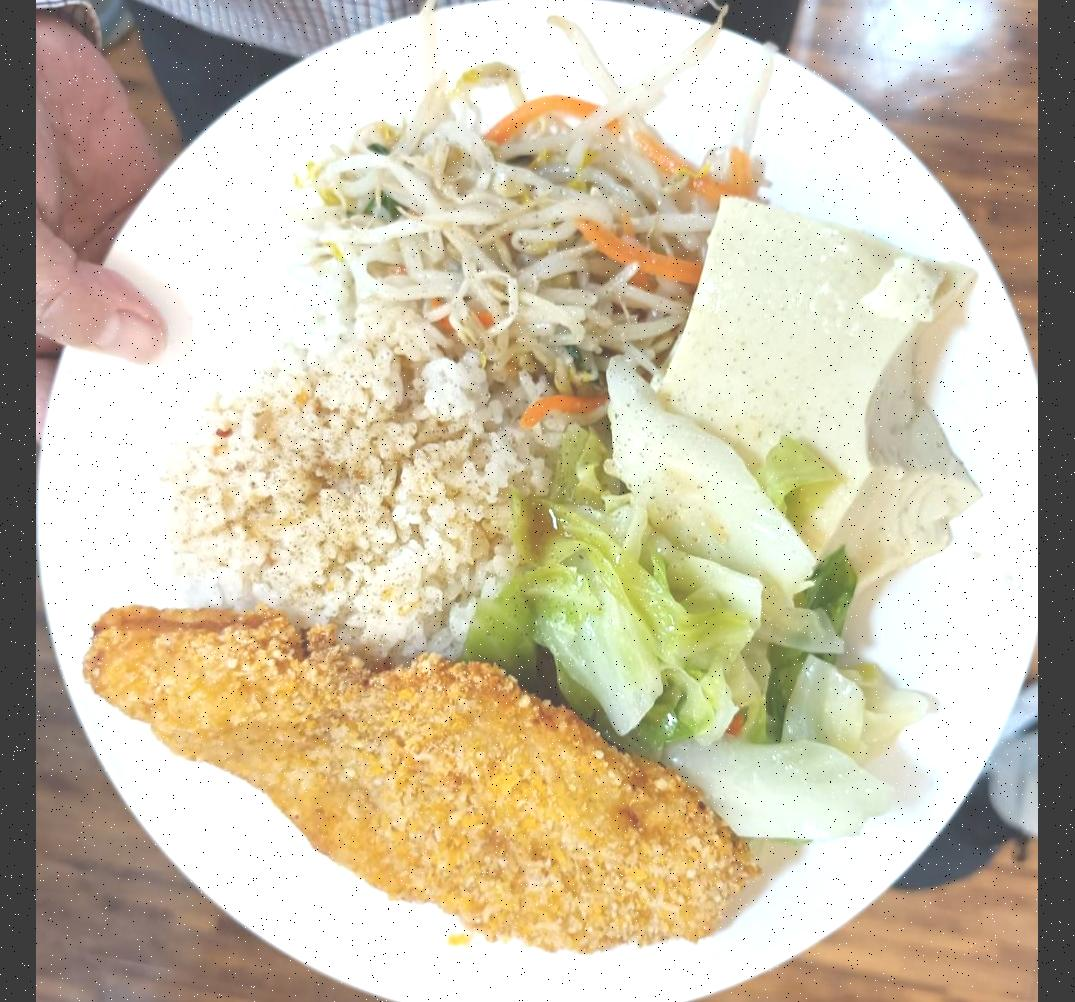chicken steak: (90, 600, 749, 960)
plate: (44, 0, 1038, 1002)
side dish: (467, 366, 930, 844), (658, 199, 976, 596), (284, 106, 712, 390)
white rice: (166, 253, 518, 666)
